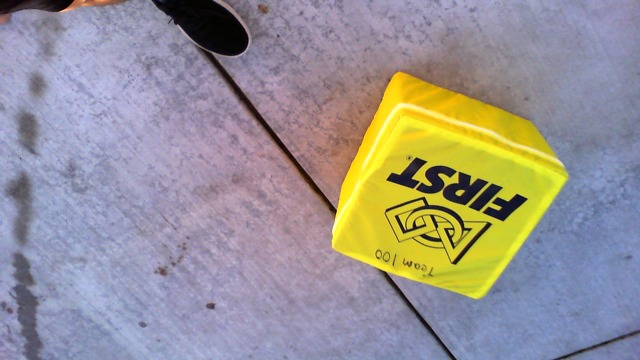cube: (331, 69, 568, 316)
